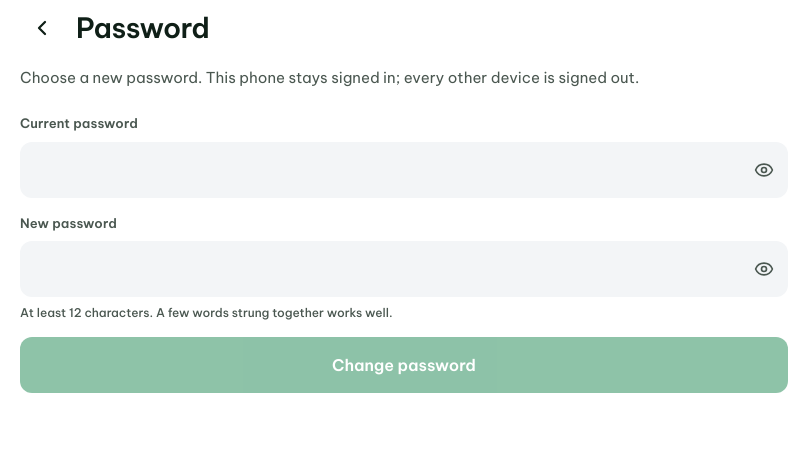
Test: changing the password › does not ask for a code when the authenticator is off, and shows the API's words for a weak password
The width and height of the screenshot is (809, 449).
In the password field labelled "Current password": (404, 170) [20,142,788,198], type "old password here"
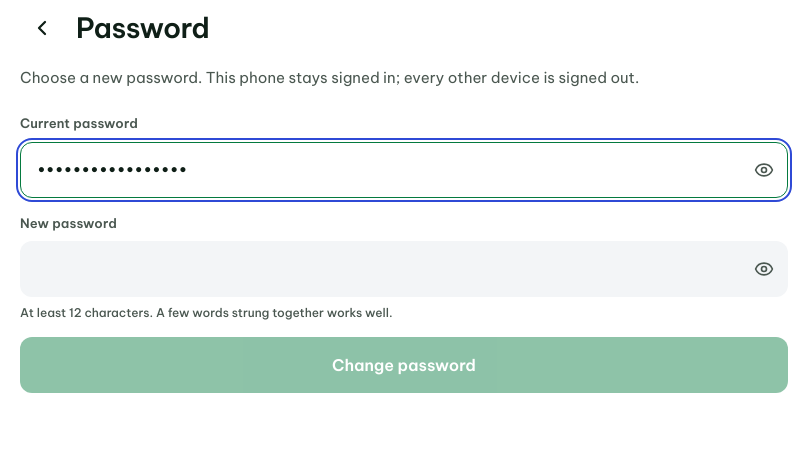
In the password field labelled "New password": (404, 269) [20,241,788,297], type "password1234"
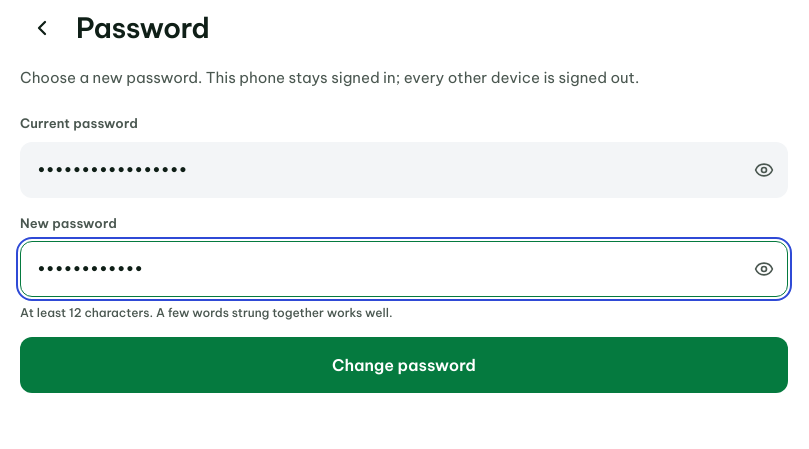
Click the button "Change password": (404, 365) [20,337,788,393]
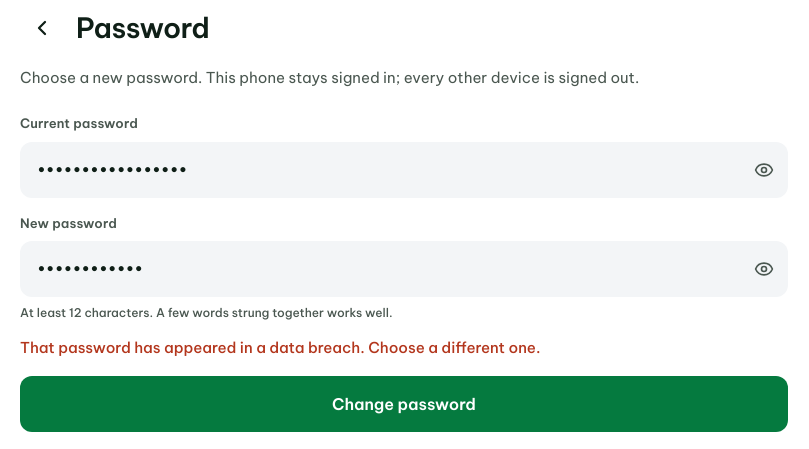
Check: the message shows "data breach", box [20,338,540,357]
